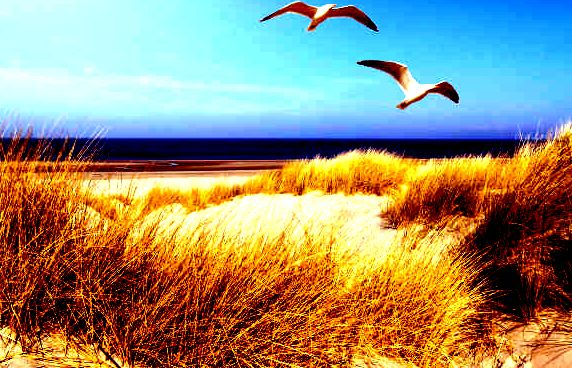Bird: (354, 58, 464, 113), (256, 0, 381, 38)
